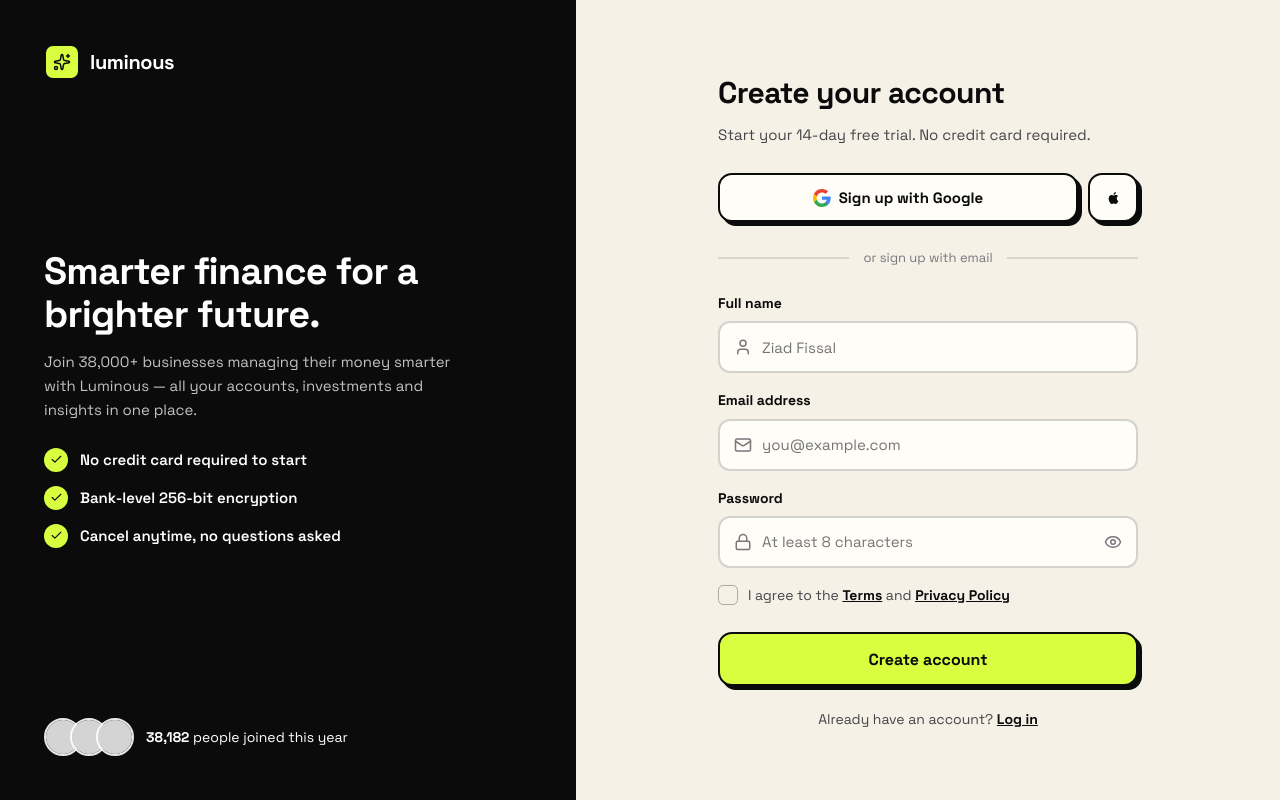
it: Signup › shows validation errors when submitted empty
The width and height of the screenshot is (1280, 800).
Click the button "Create account" at (928, 659), box [718,632,1138,686]
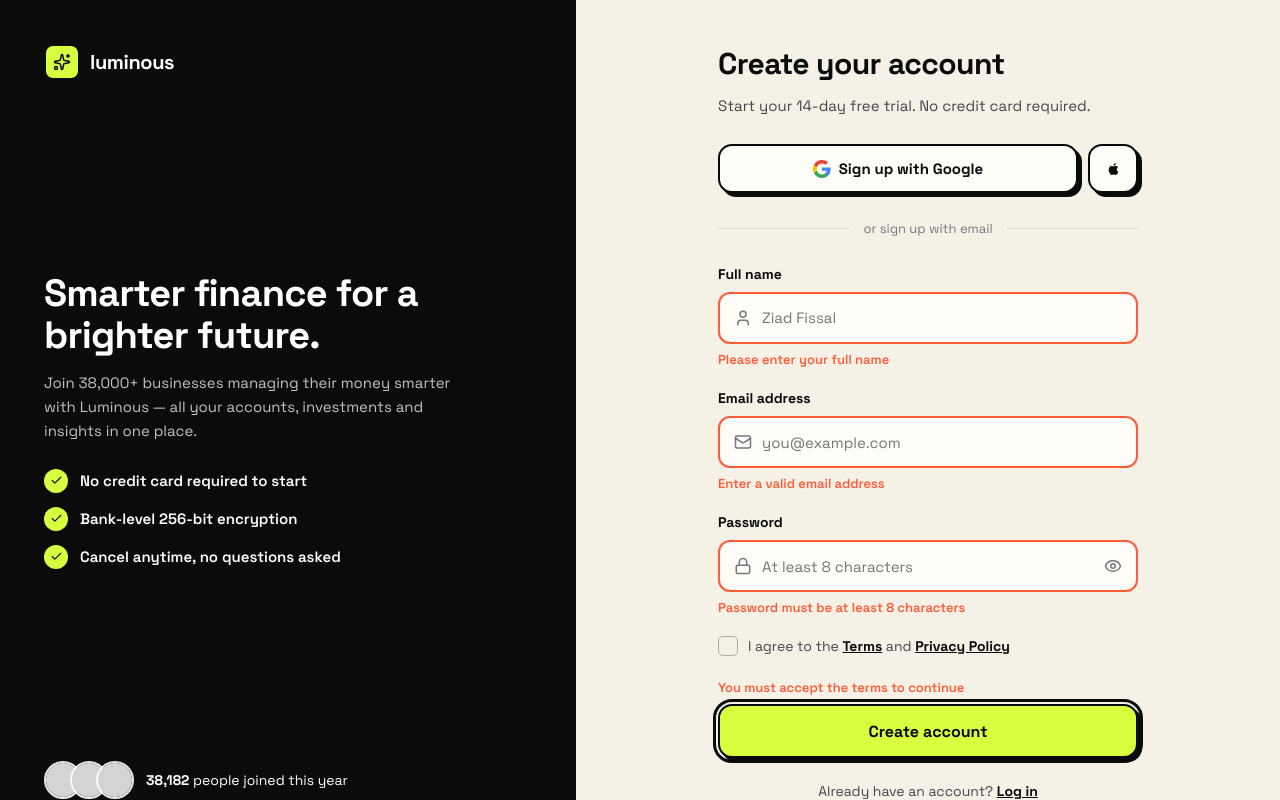
Expected: the text "Please enter your full name" is shown, [718,351,889,368]
Expected: the text "Enter a valid email address" is shown, [718,475,885,492]
Expected: the text "Password must be at least 8 characters" is shown, [718,599,965,616]
